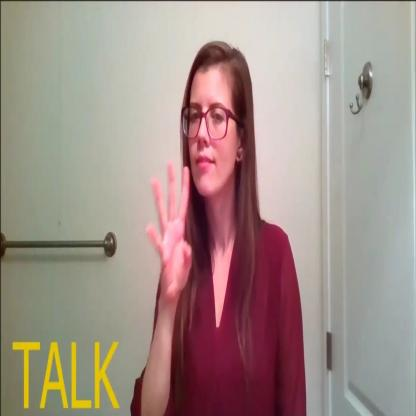Talk: (144, 33, 261, 307)
